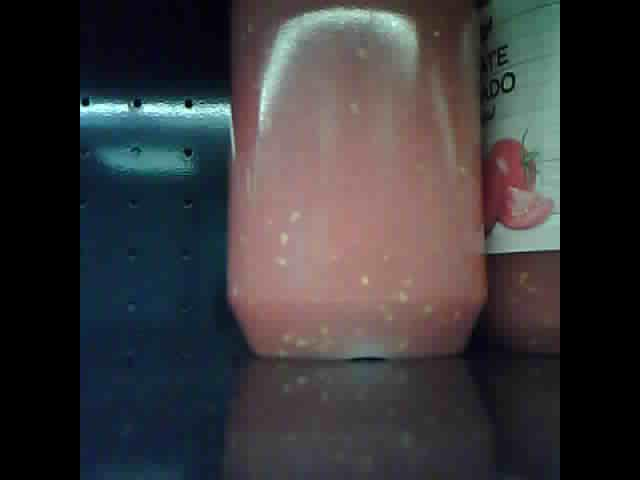tomate: (226, 3, 484, 358), (483, 4, 559, 356)
